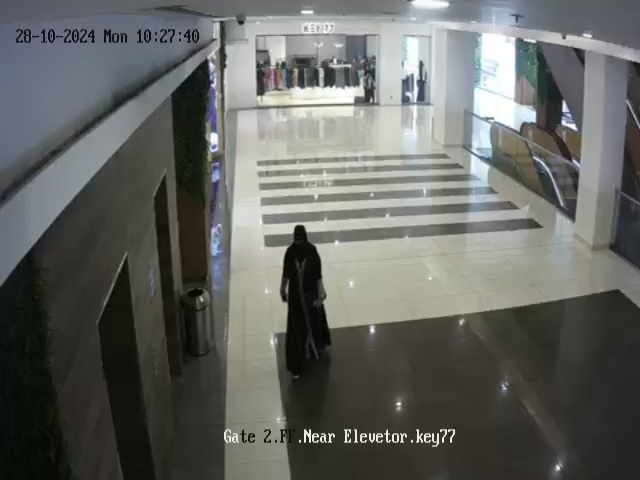female: (280, 225, 330, 381)
